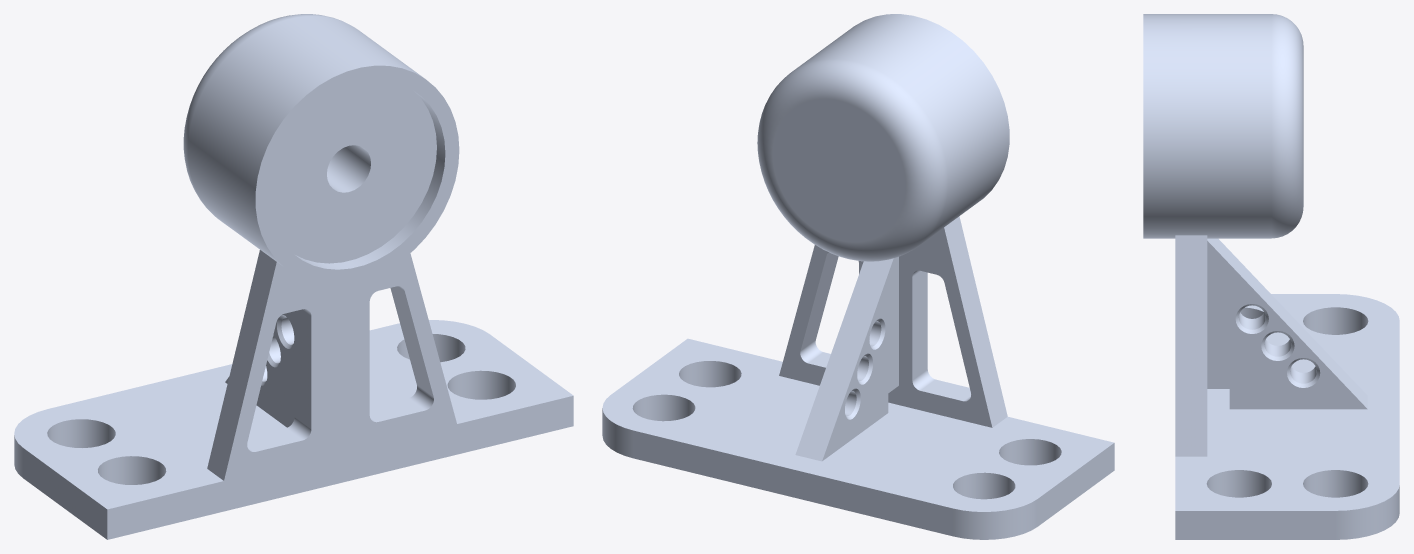
Rendered from End_Support_Bracket.gltf.
3 views of the same model, side by side, from view 1: azimuth 30°, elevation 25°; view 2: azimuth 150°, elevation 25°; view 3: azimuth 270°, elevation 25° (orthographic). The views are drawn at different scales.
Parts seen in each view (by area): view 1: End Holder-1, Support Bracket - Base-1, Support Bracket - Web-1; view 2: End Holder-1, Support Bracket - Base-1, Support Bracket - Web-1; view 3: End Holder-1, Support Bracket - Base-1, Support Bracket - Web-1.
Boxes of the visible parts, x1,y1,x2,y2 form: End Holder-1: (183, 14, 459, 500); Support Bracket - Base-1: (14, 320, 573, 539); Support Bracket - Web-1: (225, 311, 294, 427); End Holder-1: (757, 14, 1009, 427); Support Bracket - Base-1: (602, 338, 1114, 539); Support Bracket - Web-1: (795, 257, 898, 461); End Holder-1: (1143, 14, 1303, 456); Support Bracket - Base-1: (1175, 294, 1399, 539); Support Bracket - Web-1: (1207, 238, 1367, 409).
Bounding box in the file's own units: 0.1016 × 0.0889 × 0.0508.
